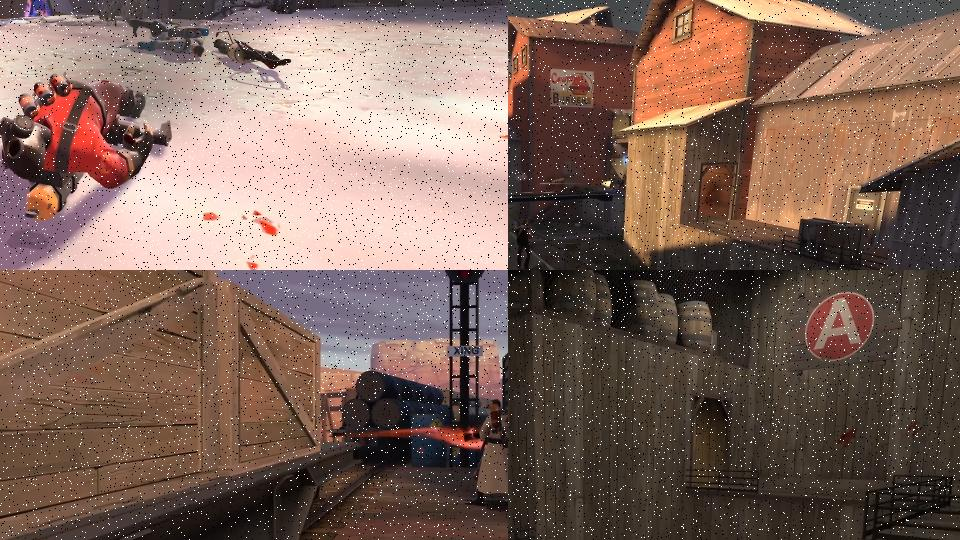Enemy: (0, 71, 172, 221), (463, 398, 508, 506), (129, 17, 209, 59), (513, 217, 534, 270), (27, 0, 49, 17)
